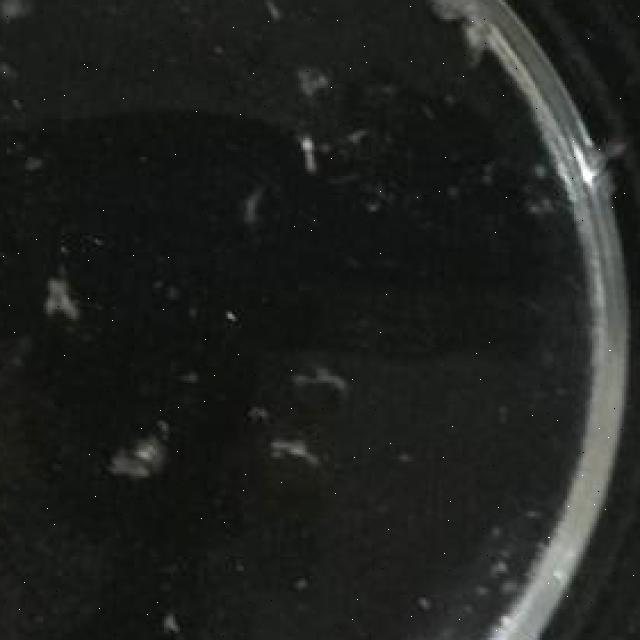Microplastic: (98, 400, 168, 504), (260, 412, 326, 488), (32, 274, 100, 345), (294, 324, 355, 402), (430, 0, 494, 71), (0, 0, 48, 59), (282, 117, 328, 176), (298, 48, 324, 104)
